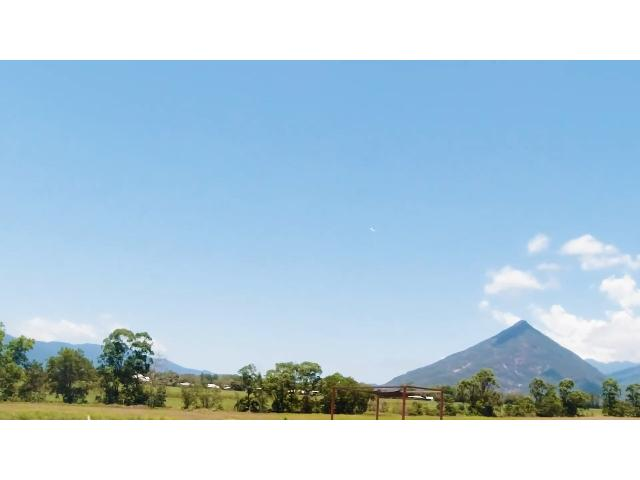Anti-Drone: (364, 220, 382, 242)
